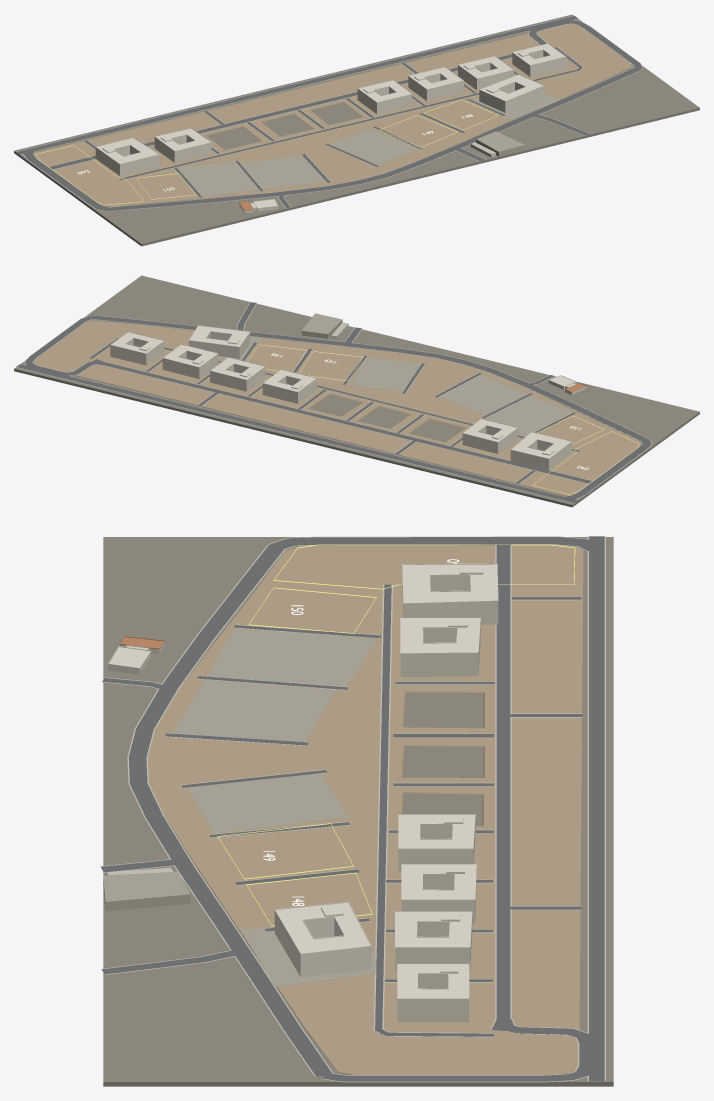
File: site-base.glb
The picture shows the model from 3 angles, top to bottom: view 1: azimuth 30°, elevation 25°; view 2: azimuth 150°, elevation 25°; view 3: azimuth 270°, elevation 25°; orthographic projection. The views are drawn at different scales.
Visible parts, largest first — view 1: Site boundary | traced from MASTER PLOT.001, Context ground | image extent.001, Road network | master traced.001, Road shoulders | master traced.001, Development_Pad_02.001, Development_Pad_01.001, B01_NW_Courtyard.001, B15_East_Compound.001, Development_Pad_03.001, B02_North_Courtyard.001, B21_North_Construction_02.001, B20_North_Construction_01.001 (+4 smaller); view 2: Site boundary | traced from MASTER PLOT.001, Context ground | image extent.001, Road network | master traced.001, Road shoulders | master traced.001, Development_Pad_02.001, Development_Pad_01.001, B01_NW_Courtyard.001, Development_Pad_03.001, B15_East_Compound.001, B02_North_Courtyard.001, B22_North_Construction_03.001, B21_North_Construction_02.001 (+3 smaller); view 3: Site boundary | traced from MASTER PLOT.001, Context ground | image extent.001, Road network | master traced.001, Road shoulders | master traced.001, Development_Pad_02.001, Development_Pad_01.001, Development_Pad_03.001, B15_East_Compound.001, B01_NW_Courtyard.001, B02_North_Courtyard.001, B23_North_Construction_04.001, B22_North_Construction_03.001 (+5 smaller).
Boxes of the visible parts, x1,y1,x2,y2 form: Site boundary | traced from MASTER PLOT.001: (34,24,631,206); Context ground | image extent.001: (14,14,699,246); Road network | master traced.001: (16,16,641,211); Road shoulders | master traced.001: (16,15,642,211); Development_Pad_02.001: (241,155,325,189); Development_Pad_01.001: (177,161,258,196); B01_NW_Courtyard.001: (95,137,159,175); B15_East_Compound.001: (479,74,544,112); Development_Pad_03.001: (330,128,417,165); B02_North_Courtyard.001: (154,128,211,162); B21_North_Construction_02.001: (408,67,463,101); B20_North_Construction_01.001: (357,80,412,114); Site boundary | traced from MASTER PLOT.001: (33,320,640,495); Context ground | image extent.001: (14,275,699,507); Road network | master traced.001: (16,302,651,502); Road shoulders | master traced.001: (16,302,652,503); Development_Pad_02.001: (439,375,527,415); Development_Pad_01.001: (485,395,571,435); B01_NW_Courtyard.001: (510,431,571,470); Development_Pad_03.001: (351,357,421,391); B15_East_Compound.001: (188,325,250,358); B02_North_Courtyard.001: (462,418,517,453); B22_North_Construction_03.001: (162,344,218,378); B21_North_Construction_02.001: (210,357,265,391); Site boundary | traced from MASTER PLOT.001: (148,545,583,1074); Context ground | image extent.001: (103,537,613,1086); Road network | master traced.001: (101,536,604,1081); Road shoulders | master traced.001: (100,536,605,1082); Development_Pad_02.001: (172,679,335,742); Development_Pad_01.001: (208,629,377,686); Development_Pad_03.001: (186,773,348,833); B15_East_Compound.001: (274,901,371,977); B01_NW_Courtyard.001: (402,563,498,624); B02_North_Courtyard.001: (400,617,480,676); B23_North_Construction_04.001: (397,963,469,1022); B22_North_Construction_03.001: (395,911,472,970).
Bounding box in the file's own units: 1101 × 28.79 × 437.
